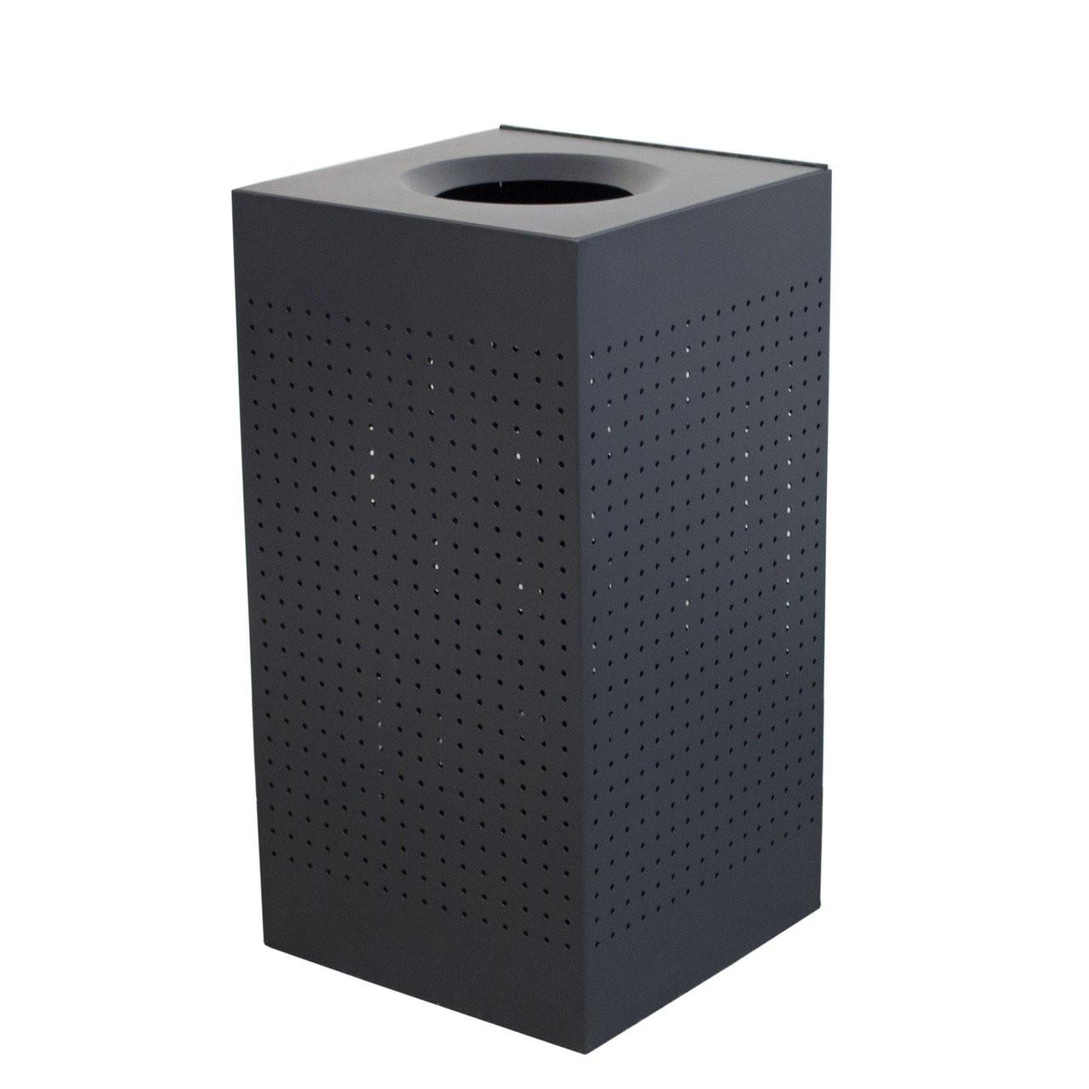garbage container: (224, 112, 853, 1059)
